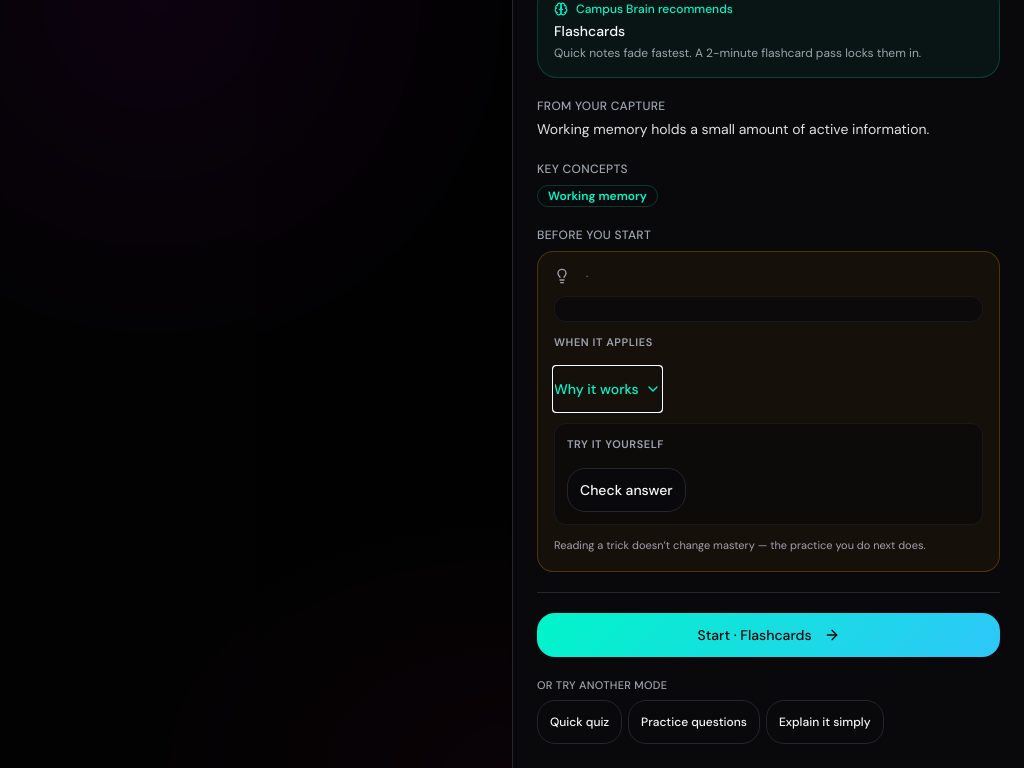
Test: StudyFromCaptureDrawer mastery boundary › treats a revealed answer with no attempt as exposure, not mastery
(page scrolled)
Click the button "Start · Flashcards": (768, 635) [537,613,1000,657]
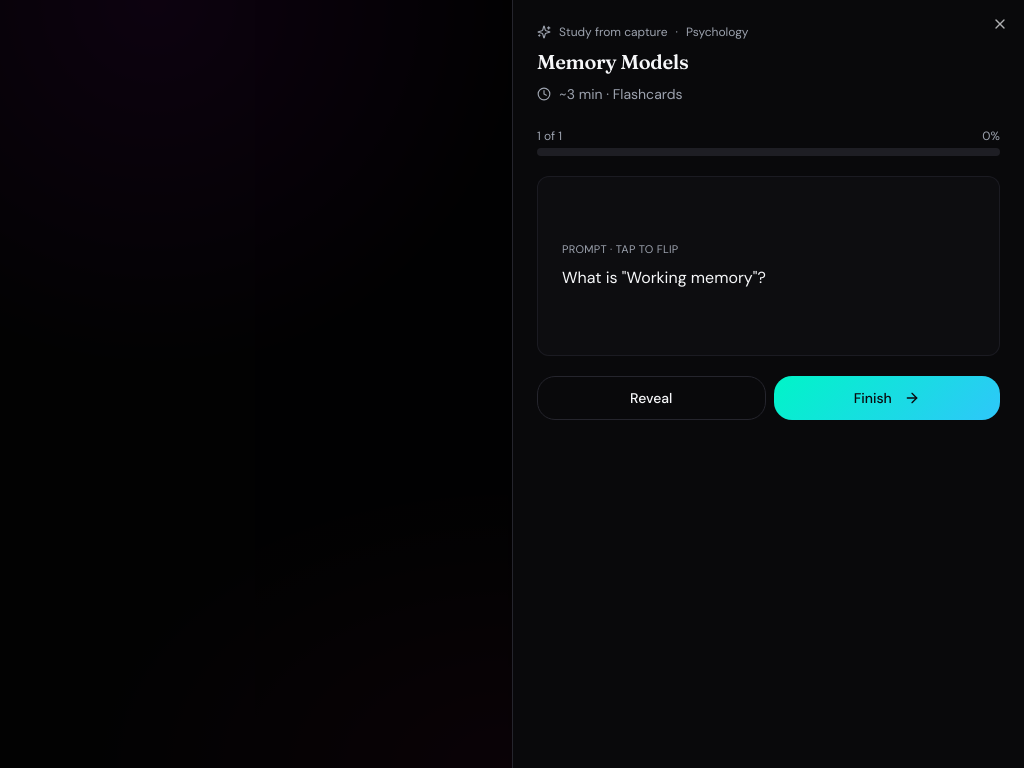
Click the button "Reveal": (651, 398) [537,376,766,420]
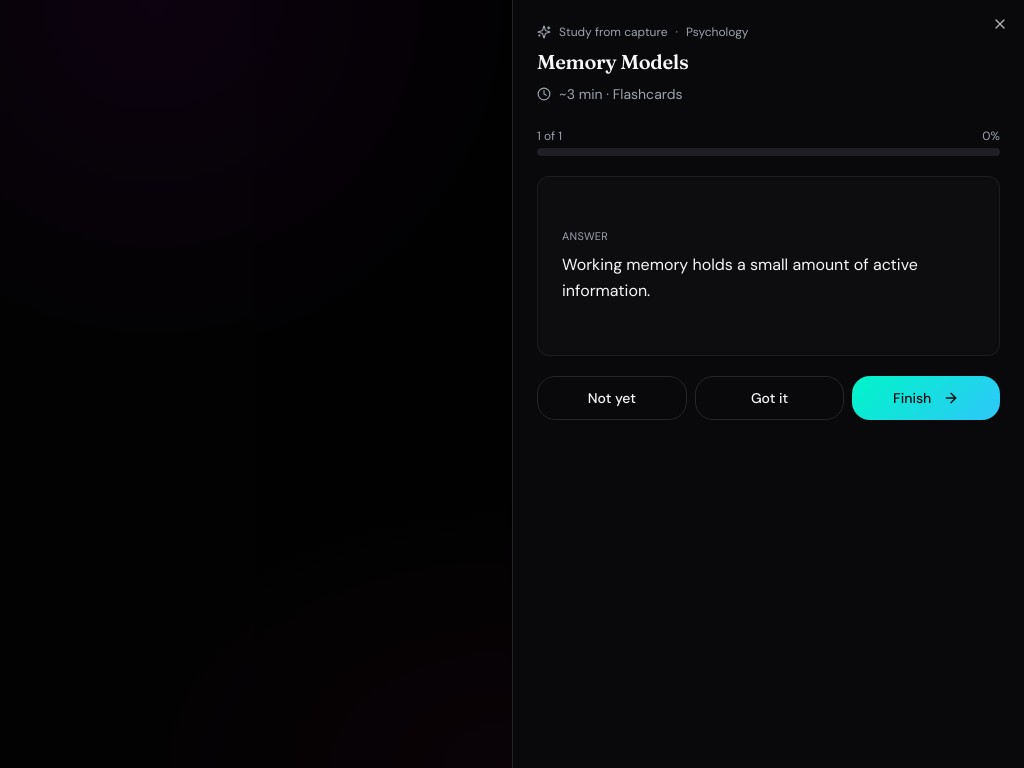
Click the button "Finish": (926, 398) [852,376,1000,420]
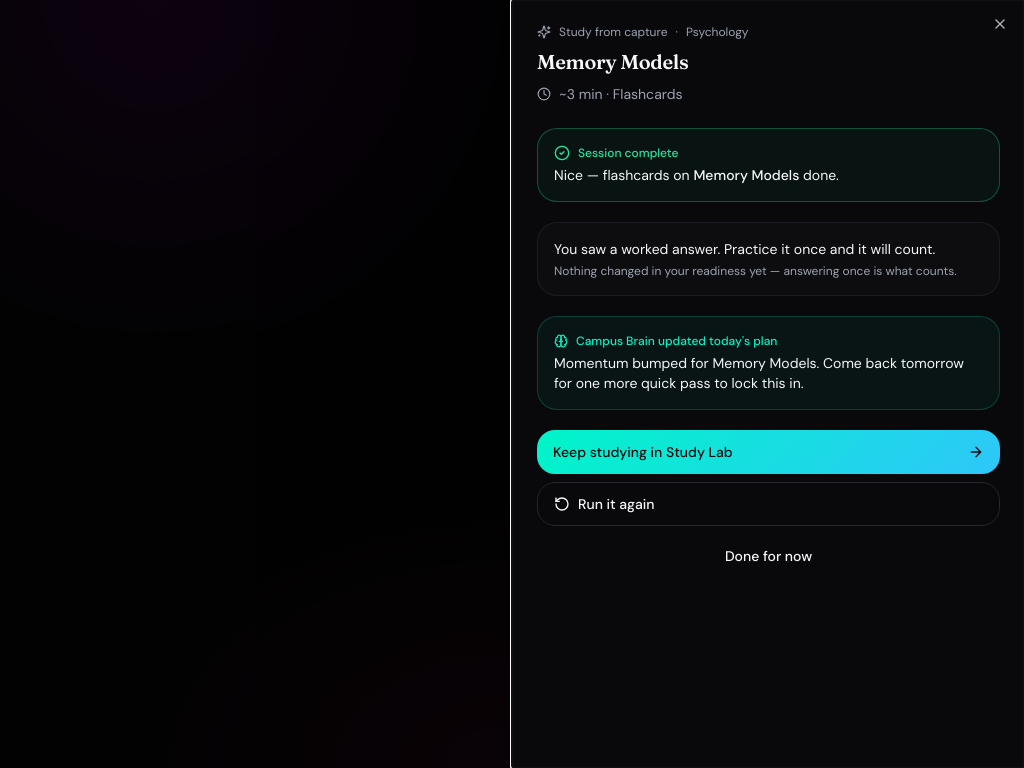
Check: the text "You saw a worked answer. Practice it once and it will count." is shown, box [554,239,983,259]
